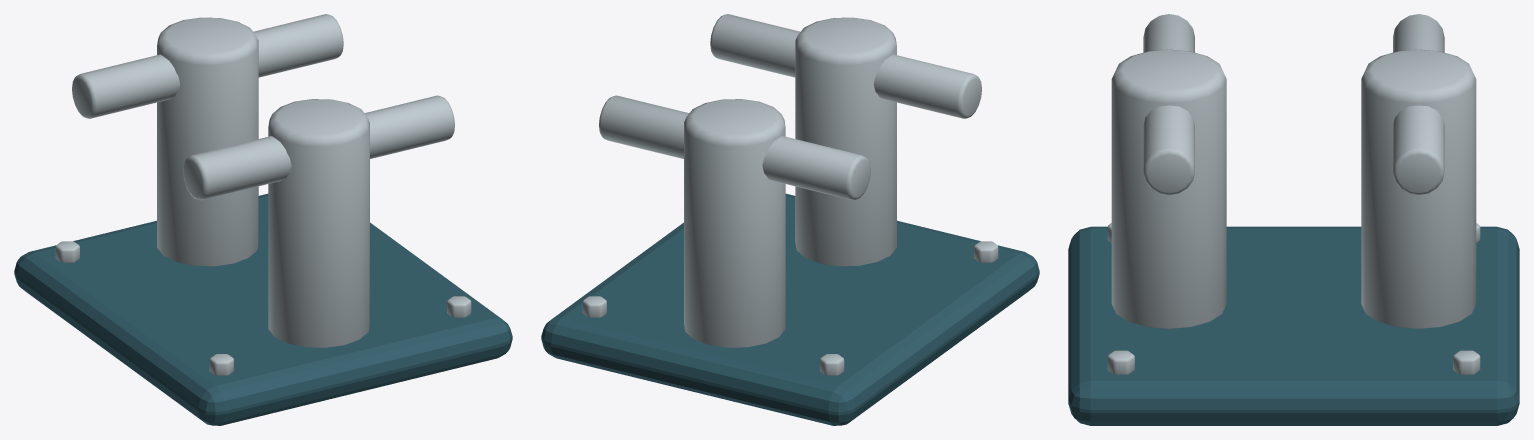
Rendered from double_bollard.glb.
3 renders of one model, left to right at view 1: azimuth 30°, elevation 25°; view 2: azimuth 150°, elevation 25°; view 3: azimuth 270°, elevation 25°, orthographic. The views are drawn at different scales.
Parts seen in each view (by area): view 1: Bollard bedplate, Bollard barrel, Bollard barrel.001, Bollard horn.001, Bollard horn, Anchor bolt.002, Anchor bolt, Anchor bolt.001; view 2: Bollard bedplate, Bollard barrel.001, Bollard barrel, Bollard horn, Bollard horn.001, Anchor bolt.003, Anchor bolt, Anchor bolt.001; view 3: Bollard bedplate, Bollard barrel, Bollard barrel.001, Bollard horn, Bollard horn.001, Anchor bolt.002, Anchor bolt.003.
Boxes of the visible parts, x1=… form: Bollard bedplate: x1=14, y1=193, x2=512, y2=425; Bollard barrel: x1=268, y1=99, x2=369, y2=347; Bollard barrel.001: x1=157, y1=17, x2=258, y2=266; Bollard horn.001: x1=72, y1=14, x2=343, y2=118; Bollard horn: x1=183, y1=95, x2=454, y2=200; Anchor bolt.002: x1=447, y1=296, x2=471, y2=317; Anchor bolt: x1=209, y1=354, x2=233, y2=375; Anchor bolt.001: x1=55, y1=241, x2=79, y2=262; Bollard bedplate: x1=541, y1=193, x2=1039, y2=425; Bollard barrel.001: x1=684, y1=99, x2=785, y2=347; Bollard barrel: x1=795, y1=17, x2=896, y2=266; Bollard horn: x1=710, y1=14, x2=981, y2=118; Bollard horn.001: x1=599, y1=95, x2=870, y2=200; Anchor bolt.003: x1=582, y1=296, x2=606, y2=317; Anchor bolt: x1=974, y1=241, x2=998, y2=262; Anchor bolt.001: x1=820, y1=354, x2=844, y2=375; Bollard bedplate: x1=1068, y1=226, x2=1519, y2=425; Bollard barrel: x1=1111, y1=49, x2=1226, y2=328; Bollard barrel.001: x1=1361, y1=49, x2=1476, y2=328; Bollard horn: x1=1143, y1=14, x2=1194, y2=194; Bollard horn.001: x1=1393, y1=14, x2=1444, y2=194; Anchor bolt.002: x1=1107, y1=350, x2=1134, y2=374; Anchor bolt.003: x1=1453, y1=350, x2=1480, y2=374.
Size of the model in its own units: 0.42 by 0.32 by 0.47.
